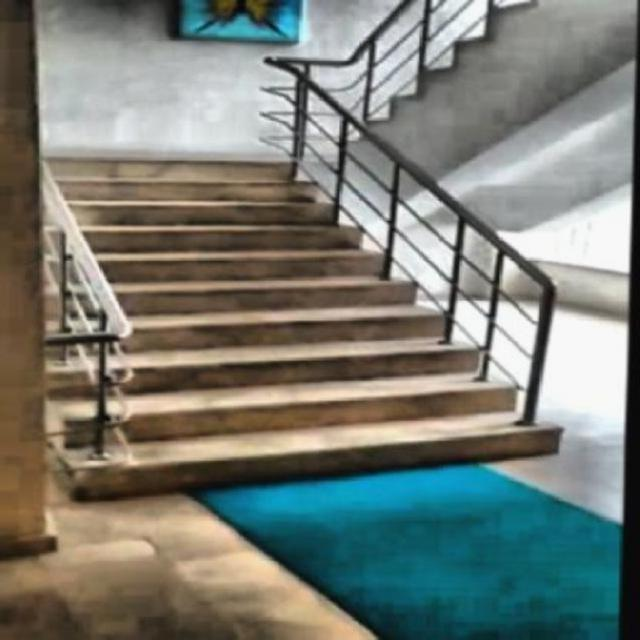stair: (23, 146, 563, 492)
